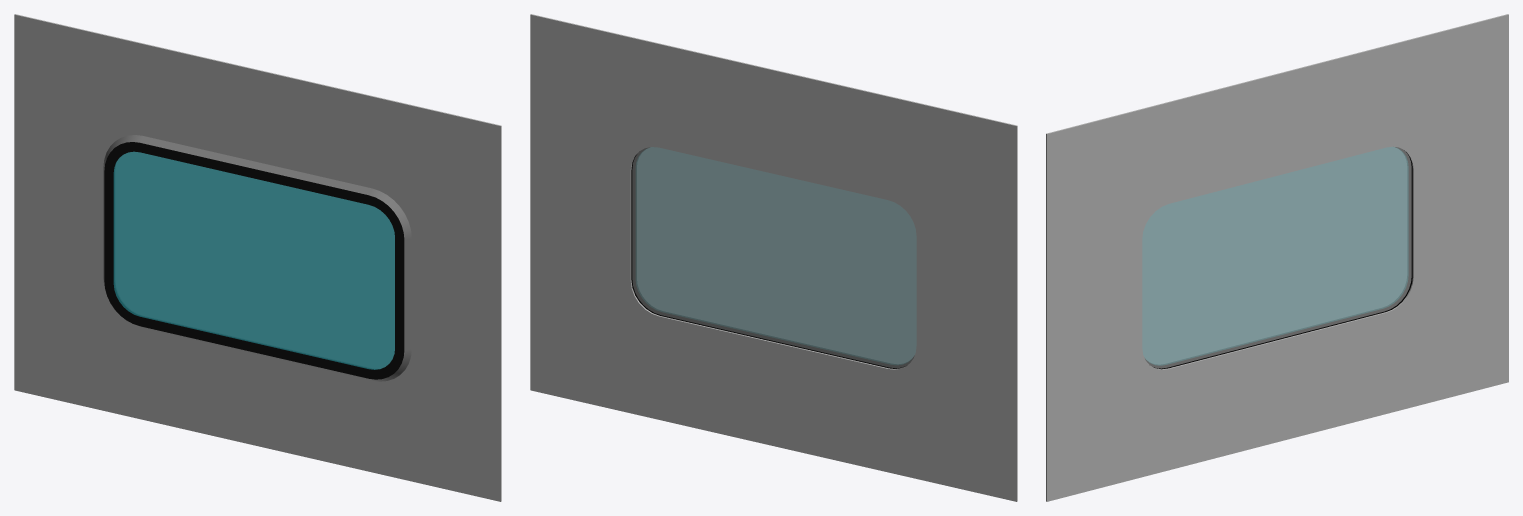
The model's file is bonded_glass.glb.
3 renders of one model, left to right at view 1: azimuth 30°, elevation 25°; view 2: azimuth 210°, elevation 25°; view 3: azimuth 270°, elevation 25°, orthographic. The views are drawn at different scales.
Parts seen in each view (by area): view 1: P013321; view 2: P013321; view 3: P013321.
Boxes of the visible parts, left/top/right/bottom form: P013321: left=14, top=14, right=501, bottom=501; P013321: left=530, top=14, right=1017, bottom=501; P013321: left=1046, top=14, right=1508, bottom=501.
Bounding box in the file's own units: 0.7179 × 1.02 × 1.17.
